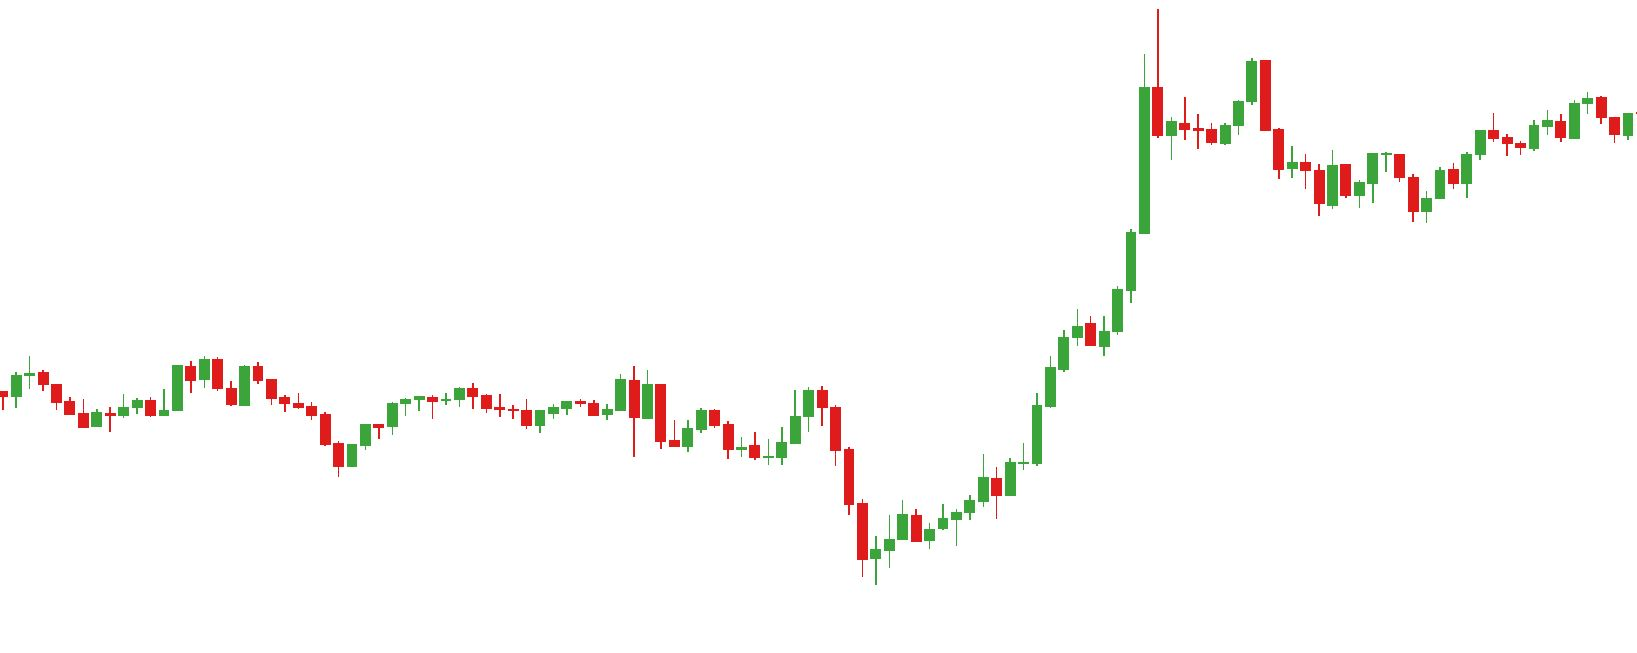buy: (1312, 166, 1432, 225)
sell: (694, 388, 844, 450), (1179, 55, 1273, 127)
